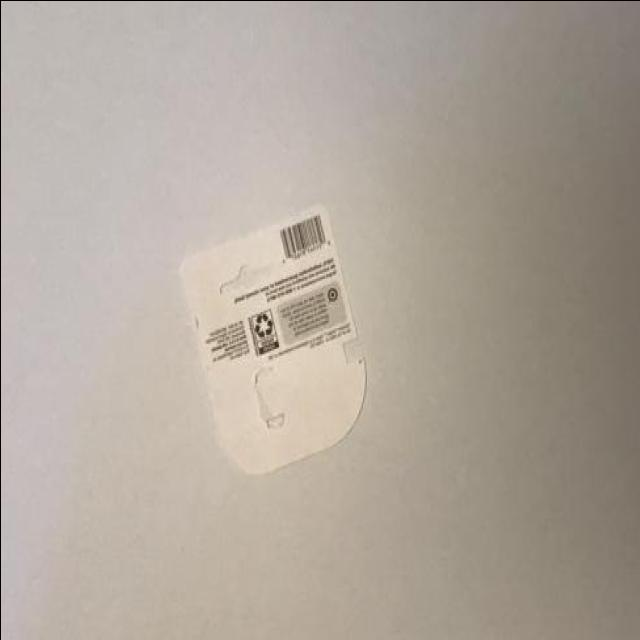kertas: (172, 201, 367, 474)
